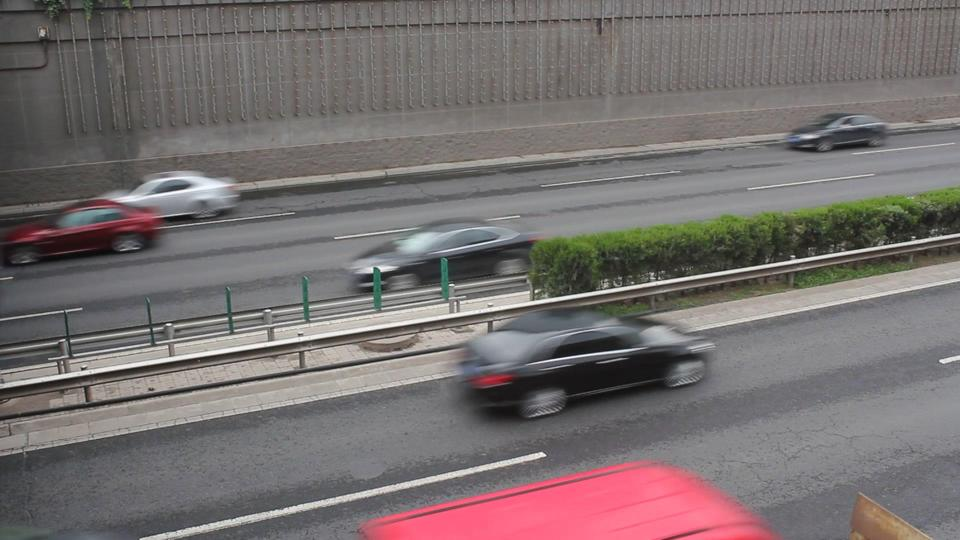Car: (454, 303, 705, 413), (347, 215, 540, 290), (23, 197, 160, 259), (97, 168, 238, 220), (785, 110, 887, 152)
Minivan: (401, 462, 759, 540)
